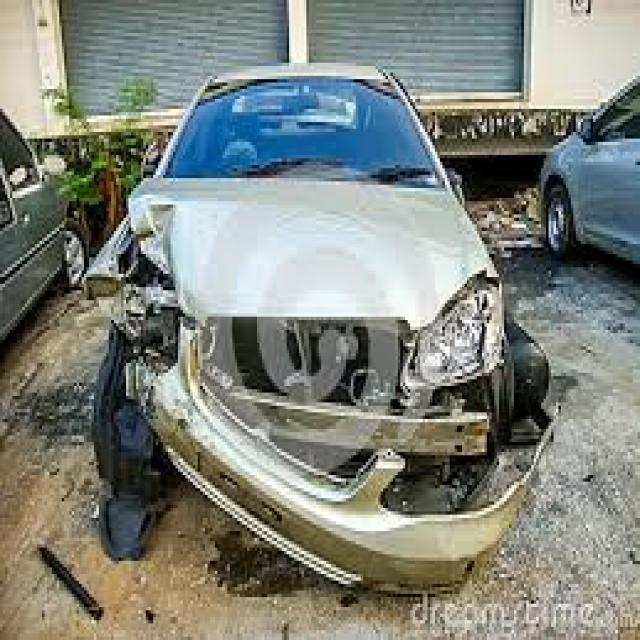severe: (61, 180, 566, 578)
